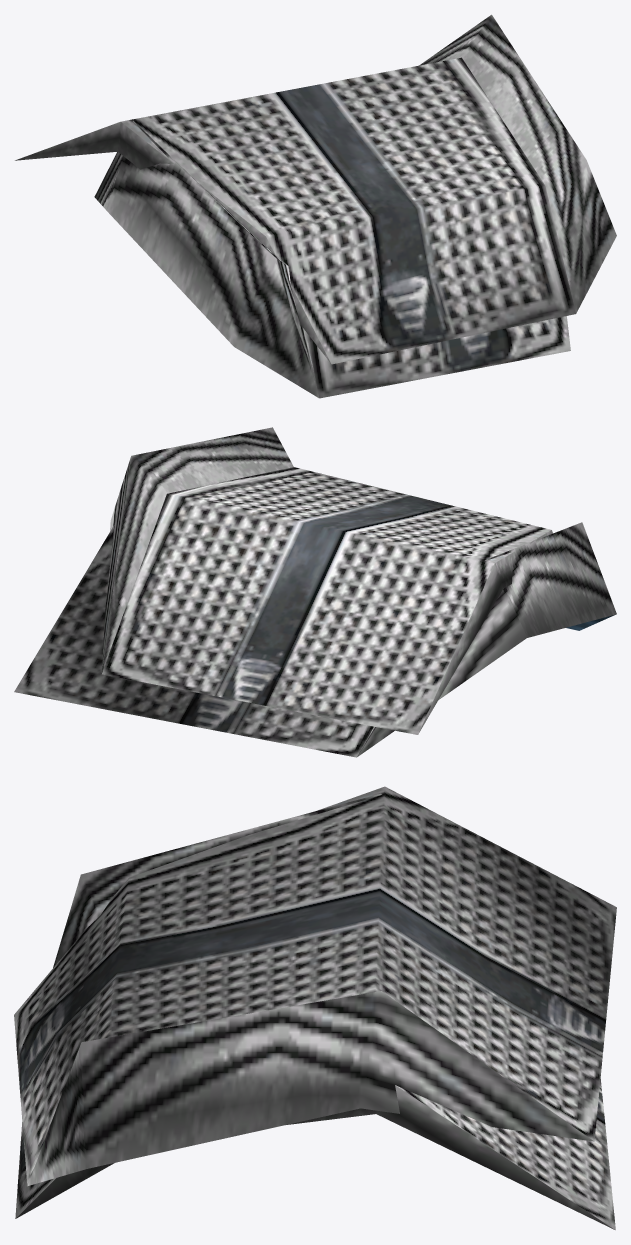
File: ShoulderPads2.glb
The picture shows the model from 3 angles, top to bottom: view 1: azimuth 30°, elevation 25°; view 2: azimuth 150°, elevation 25°; view 3: azimuth 270°, elevation 25°; orthographic projection. The views are drawn at different scales.
Visible parts, largest first — view 1: ShoulderPads2; view 2: ShoulderPads2; view 3: ShoulderPads2.
Boxes of the visible parts, x1,y1,x2,y2 form: ShoulderPads2: (15,14,616,398); ShoulderPads2: (14,427,616,757); ShoulderPads2: (14,786,616,1230).
Size of the model in its own units: 9.82 by 4.75 by 9.66.
Materials: 1 (1 with a texture image).
